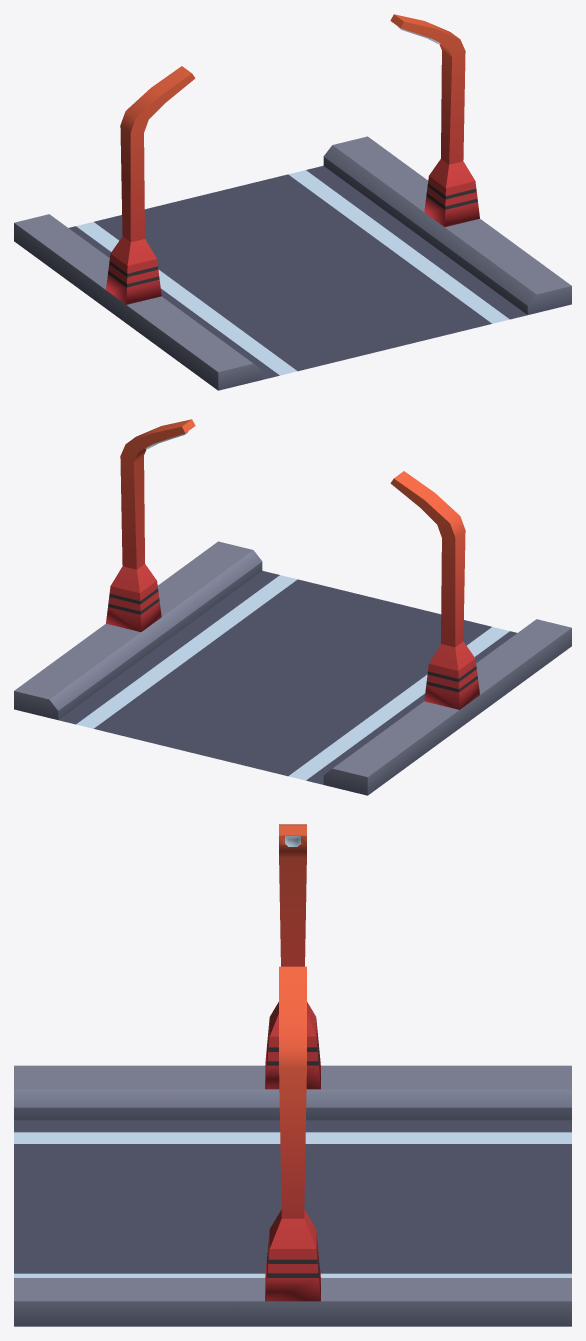
Rendered from road-straight-lightposts.glb.
3 views of the same model, one above another, from view 1: azimuth 30°, elevation 25°; view 2: azimuth 150°, elevation 25°; view 3: azimuth 270°, elevation 25° (orthographic). The views are drawn at different scales.
Parts seen in each view (by area): view 1: road-straight-lightposts; view 2: road-straight-lightposts; view 3: road-straight-lightposts.
Boxes of the visible parts, <box> form: road-straight-lightposts: <box>14,14,571,390</box>; road-straight-lightposts: <box>14,419,571,795</box>; road-straight-lightposts: <box>14,824,571,1326</box>.
Size of the model in its own units: 1 by 0.6186 by 1.
1 material, 1 textured.
